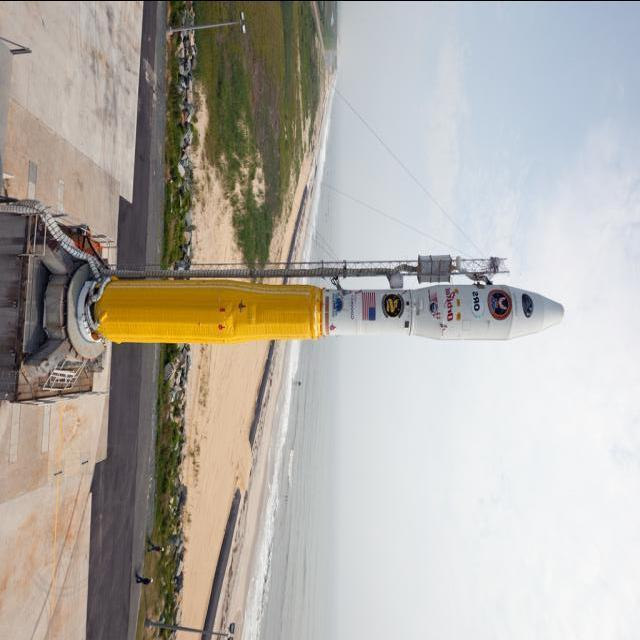missile: (78, 264, 564, 354)
